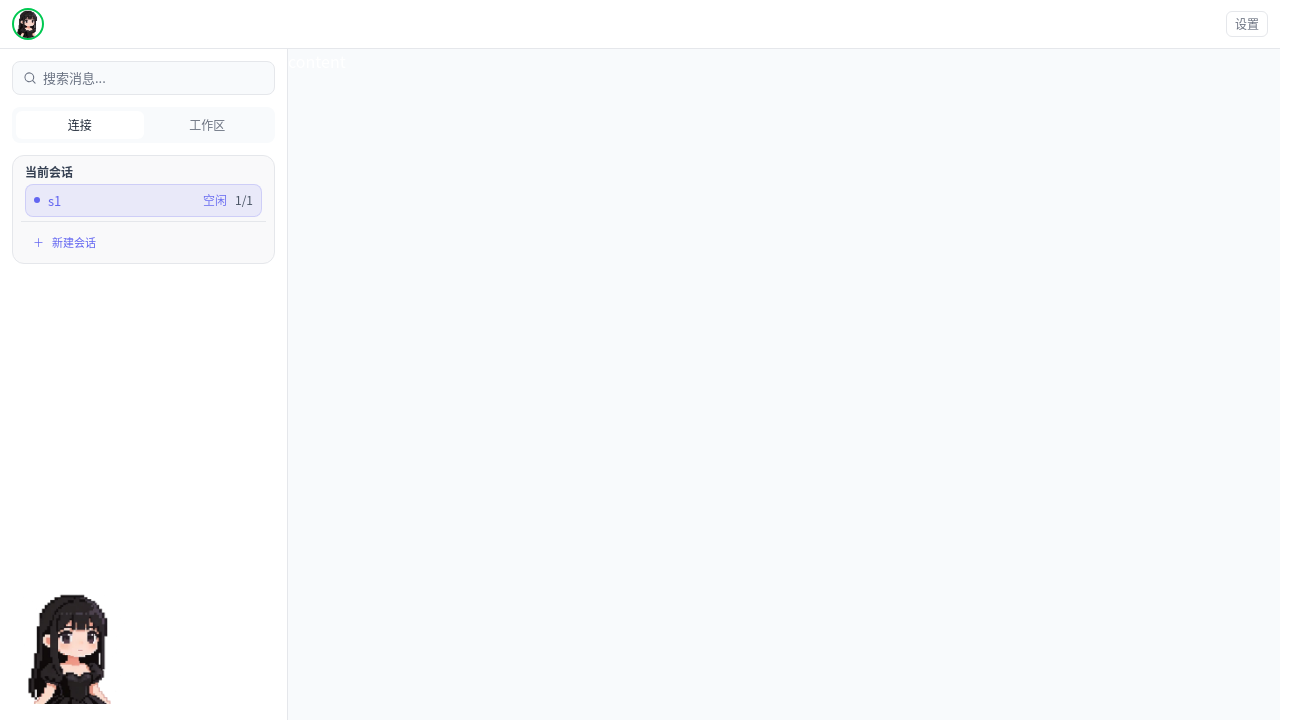
Test: Layout › desktop layout › renders empty, inaccessible, and large-file preview states
The width and height of the screenshot is (1292, 720).
What coordinates should you click on to do the following:
click the tab "工作区"
I would click on:
 (207, 124)
Its box is x1=144 y1=110 x2=271 y2=138.
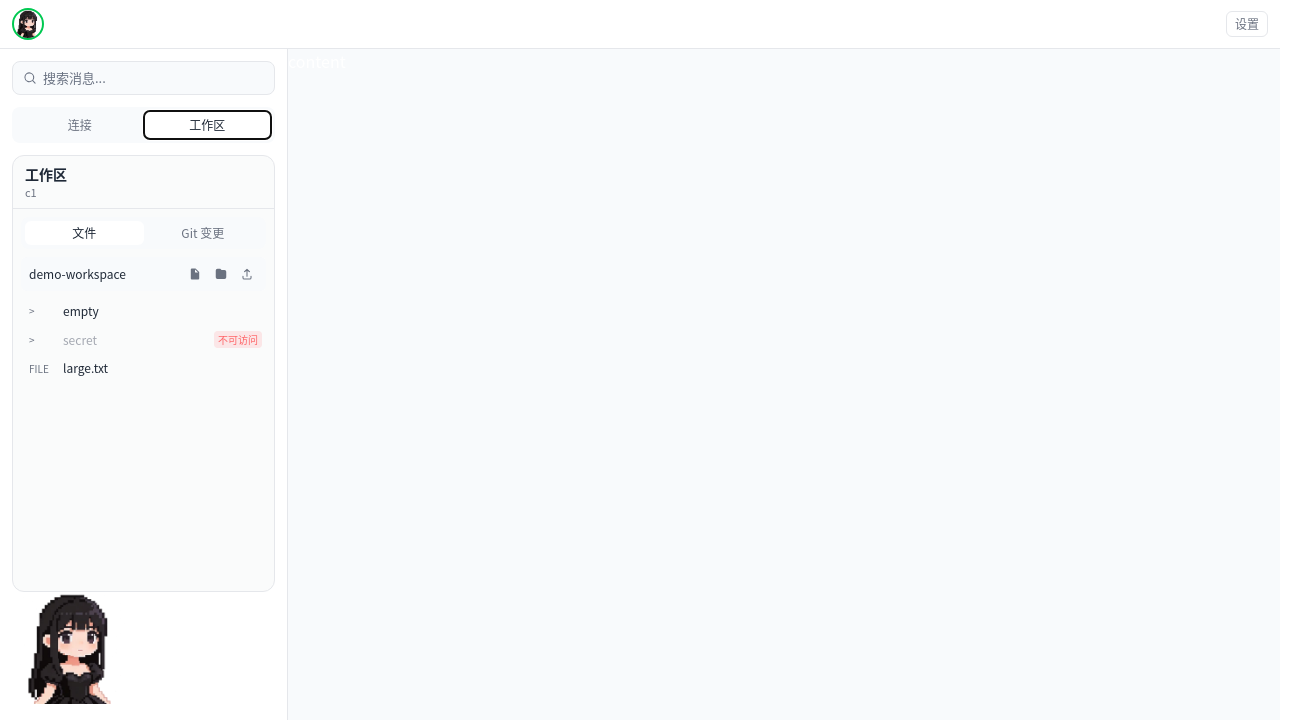
What coordinates should you click on to do the following:
click the button "> empty"
I would click on:
 (144, 311)
Its box is x1=21 y1=299 x2=266 y2=323.
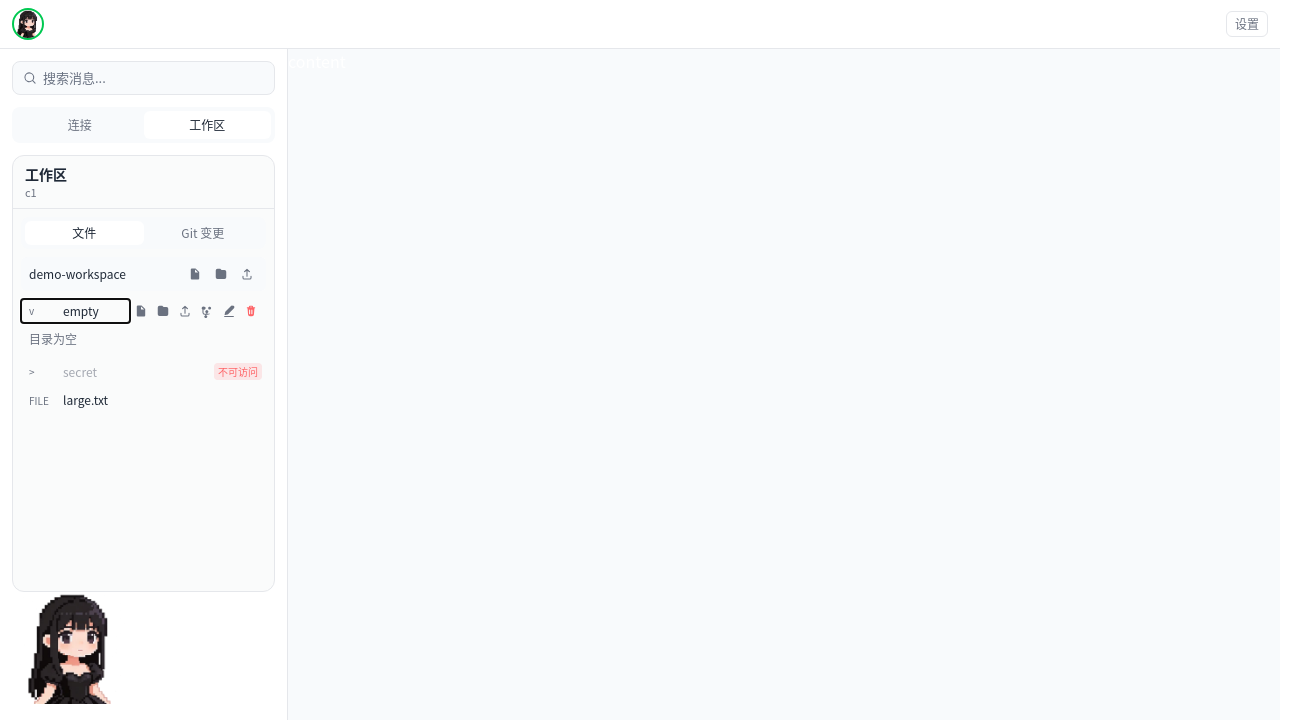
Expected: the text "不可访问" is shown, x1=214 y1=363 x2=262 y2=380
Expected: the text "目录为空" is shown, x1=29 y1=330 x2=77 y2=347
What coordinates should you click on to do the following:
click the button "FILE large.txt"
I would click on:
 (144, 400)
Its box is x1=21 y1=388 x2=266 y2=412.
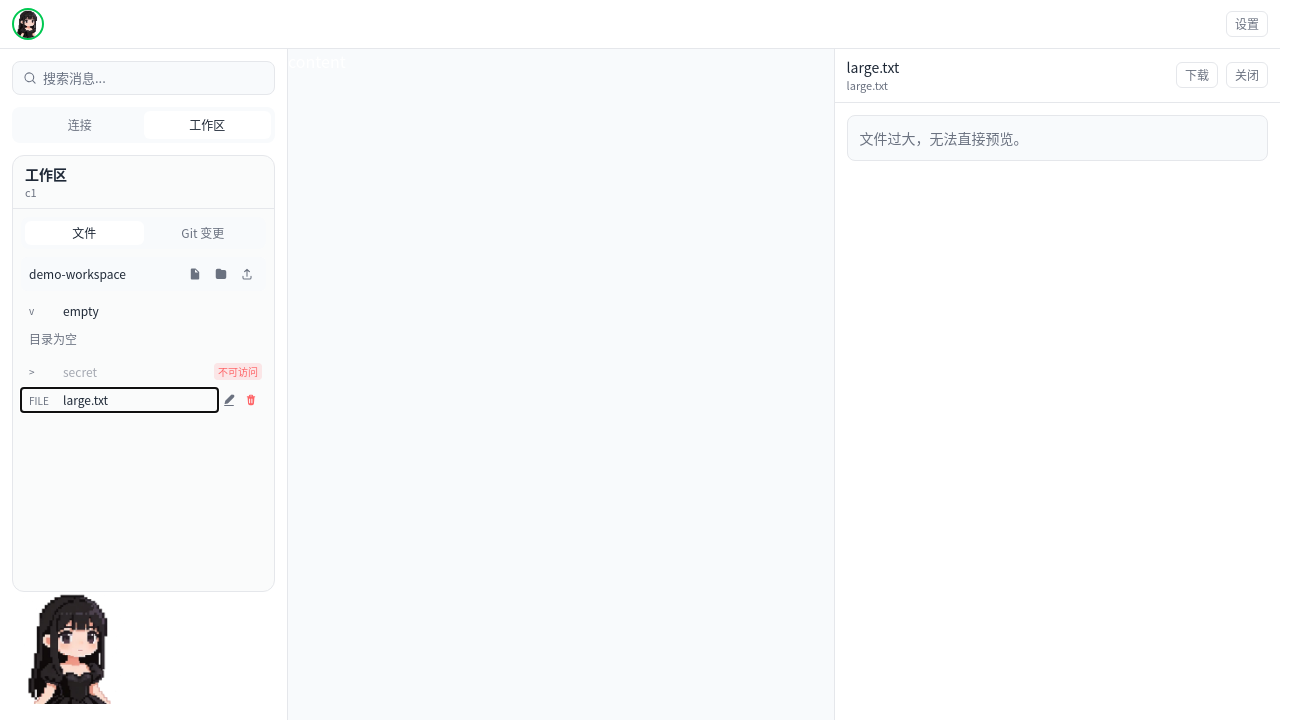
Expected: the text "文件过大，无法直接预览。" is shown, x1=847 y1=114 x2=1268 y2=160
